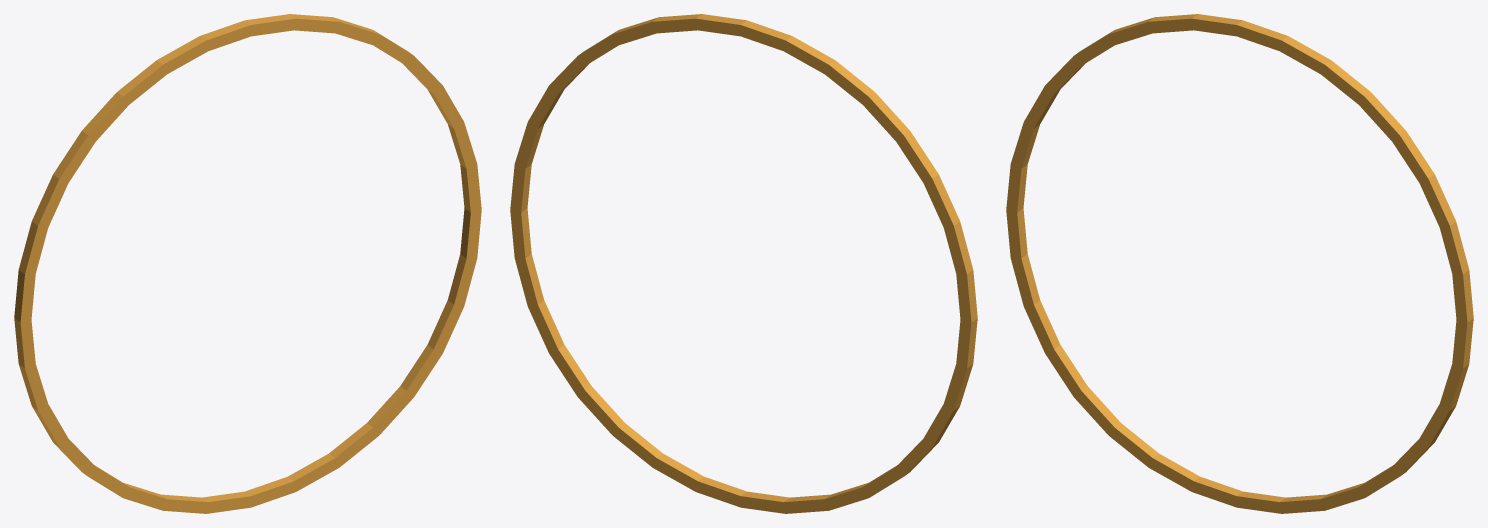
Rendered from orbit-outer.obj.
3 views of the same model, side by side, from view 1: azimuth 30°, elevation 25°; view 2: azimuth 150°, elevation 25°; view 3: azimuth 330°, elevation 25° (orthographic).
Bounding box in the file's own units: 5.94 × 5.94 × 0.1414.
